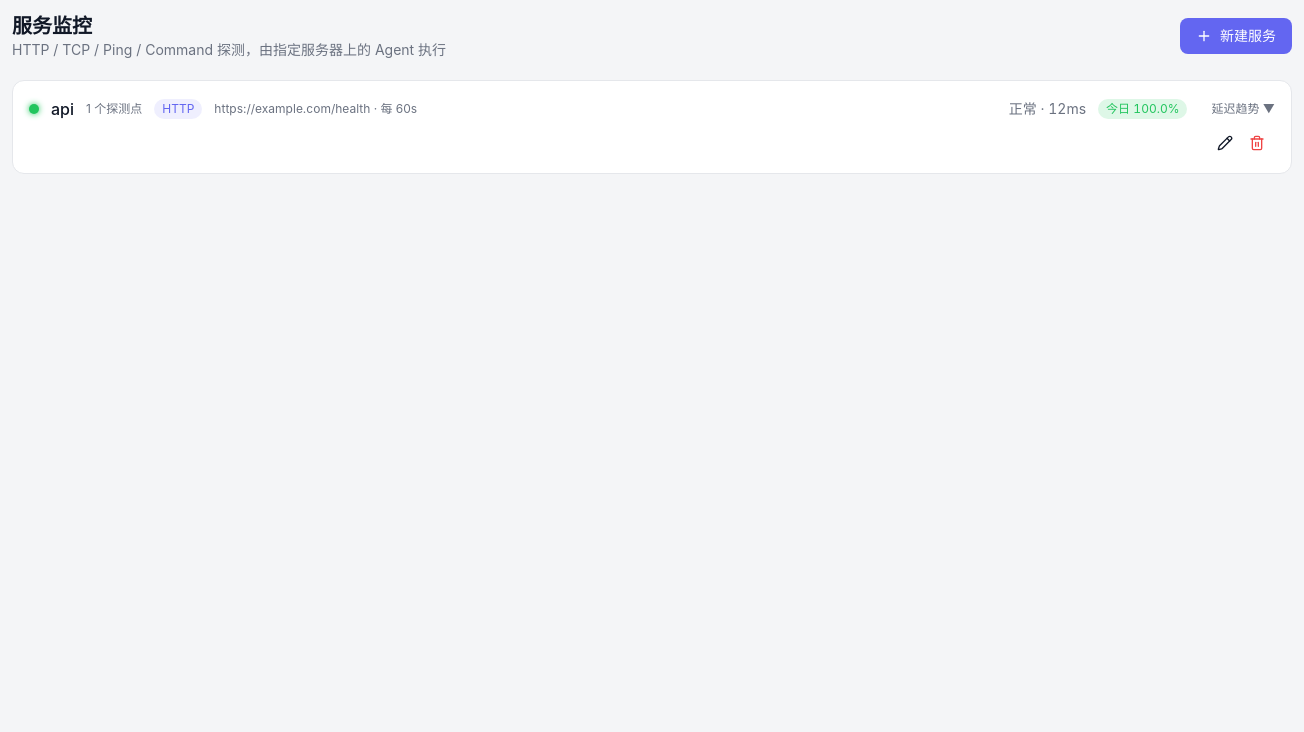
Test: Services page › pre-fills the expected statuses list when editing
The width and height of the screenshot is (1304, 732).
Check: the text "api" is shown, box x1=51 y1=97 x2=74 y2=121
Click the button titled "编辑": [1225, 143] box x1=1211 y1=129 x2=1239 y2=157
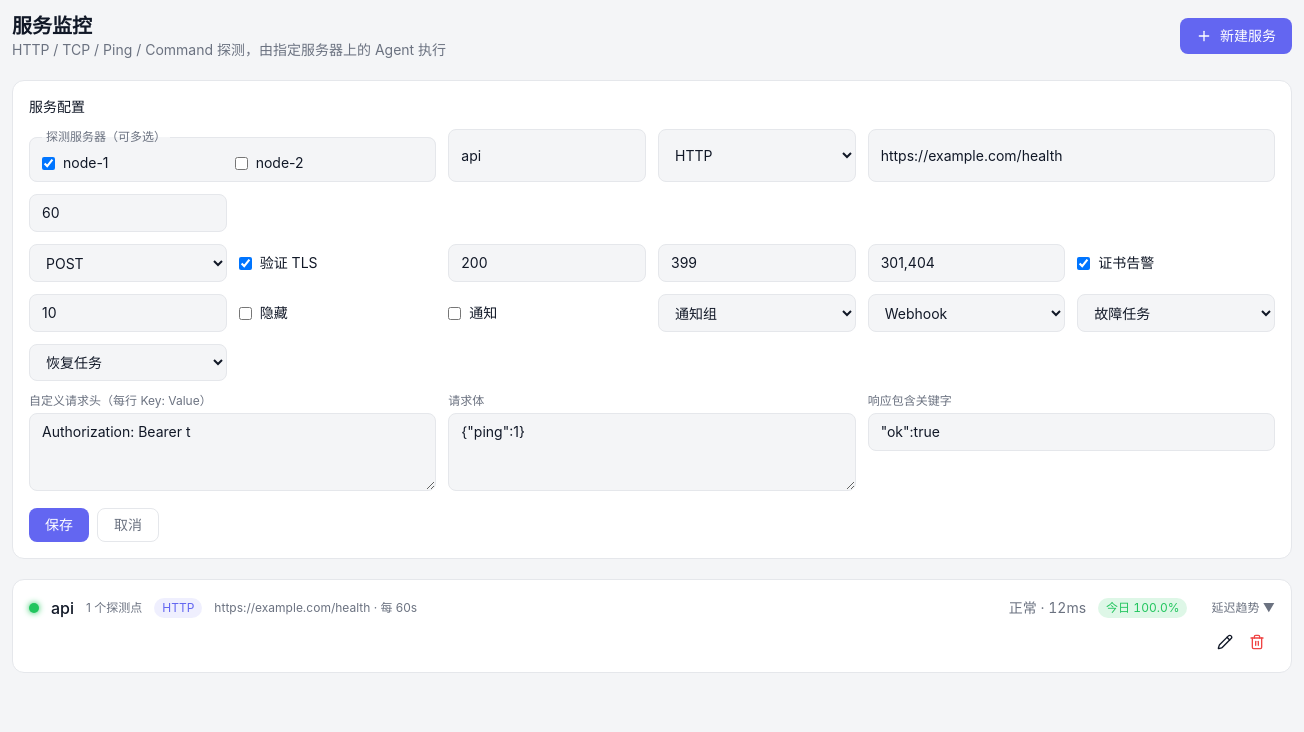
Check: the field titled "期望状态码（逗号分隔，留空=区间）" holds "301,404", box x1=868 y1=244 x2=1065 y2=282
